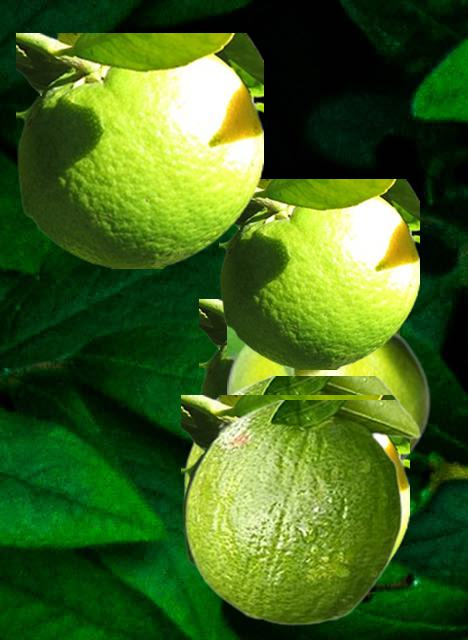dalandan: (16, 33, 262, 267), (184, 400, 420, 624), (181, 395, 408, 574), (219, 179, 418, 368), (227, 328, 430, 457), (183, 376, 399, 493), (199, 299, 231, 397)
